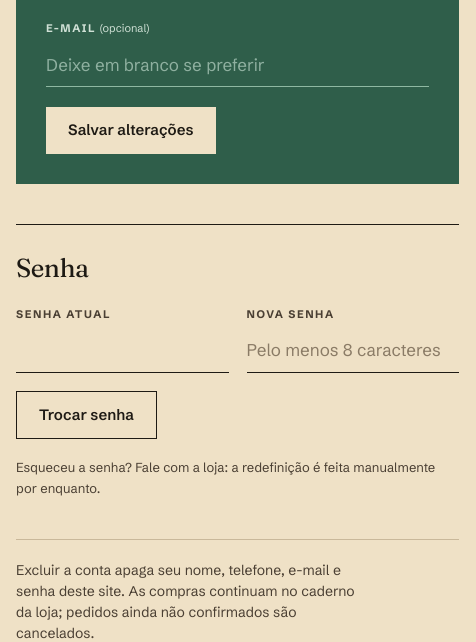
it: MyAccount — trocar a senha › guarda o token novo que o servidor devolve: as outras sessões caíram, esta continua
(page scrolled)
In the password field labelled "Senha atual": coordinates (122, 351) x1=16 y1=328 x2=228 y2=373, type "senha-velha-1"
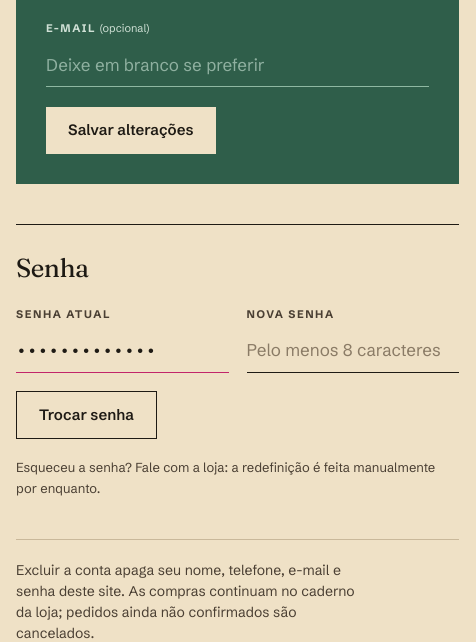
In the password field labelled "Nova senha": coordinates (353, 351) x1=246 y1=328 x2=459 y2=373, type "senha-nova-123"
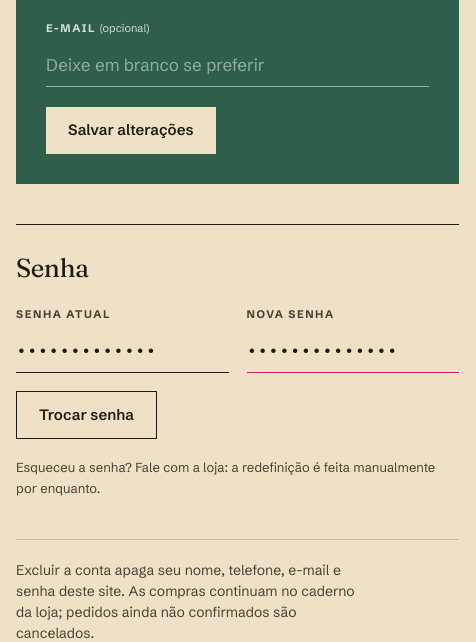
Click the button "Trocar senha": coordinates (86, 415) x1=16 y1=391 x2=157 y2=439
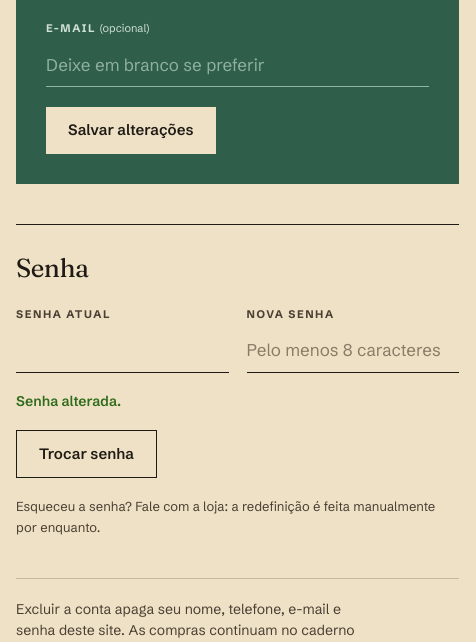
Now the text "Senha alterada." is shown, box x1=16 y1=392 x2=121 y2=410
